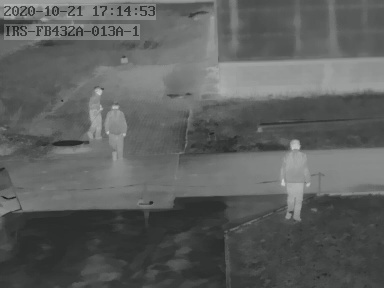person: (280, 136, 311, 221), (105, 99, 127, 162), (85, 84, 104, 139)
